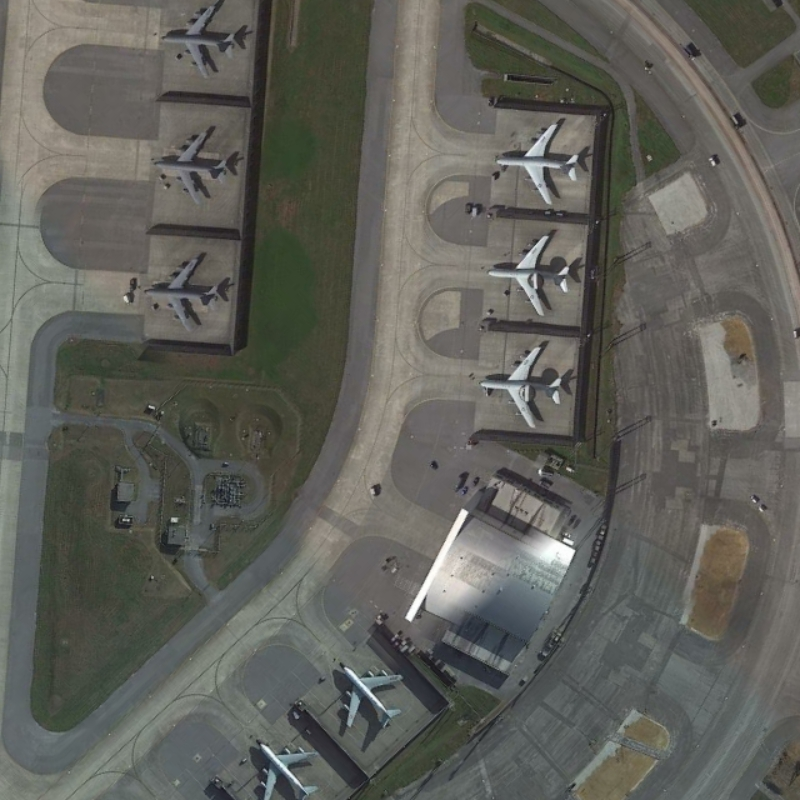A11: (493, 118, 589, 209), (331, 650, 408, 736), (248, 728, 328, 800)
A14: (140, 249, 237, 339), (148, 124, 240, 207), (155, 2, 248, 83)
A7: (478, 339, 573, 433), (485, 230, 583, 319)
